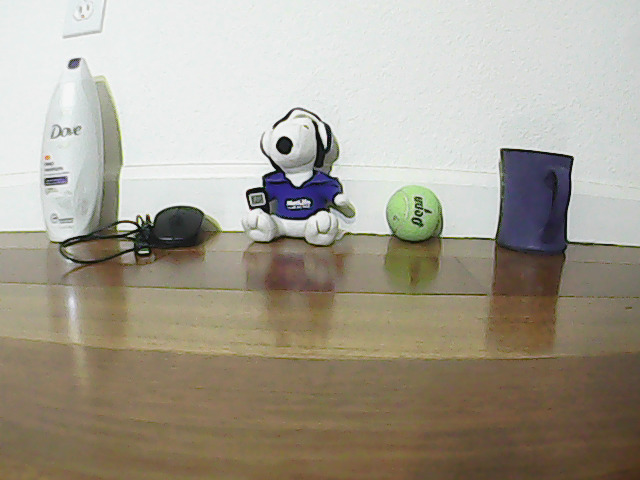ball: (375, 176, 448, 243)
mouse: (149, 204, 206, 247)
mug: (496, 145, 571, 255)
snoopy: (252, 111, 356, 246)
soap: (28, 38, 105, 234)
